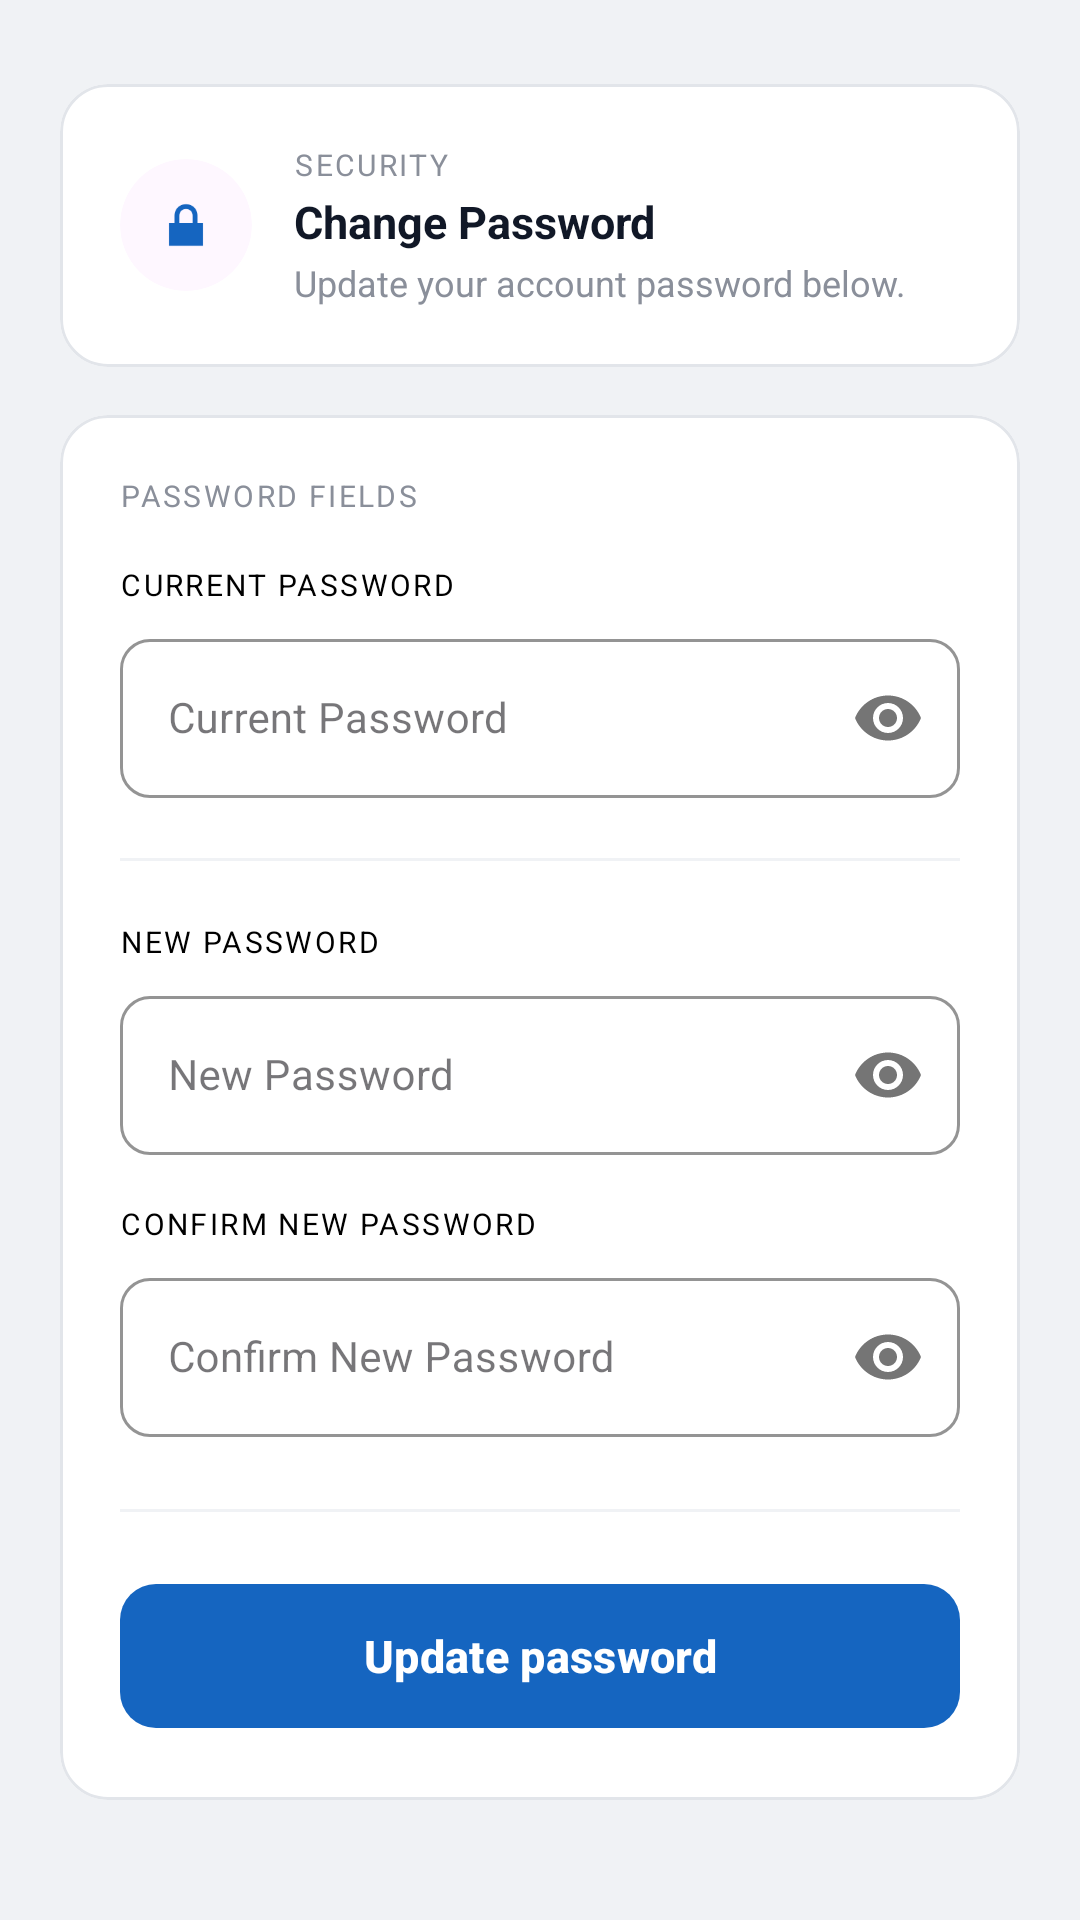

Screen size 1080 x 1920. Icon name, then its box in pixels as box(x1, y1, x2, y2):
lock: box(169, 204, 203, 246)
